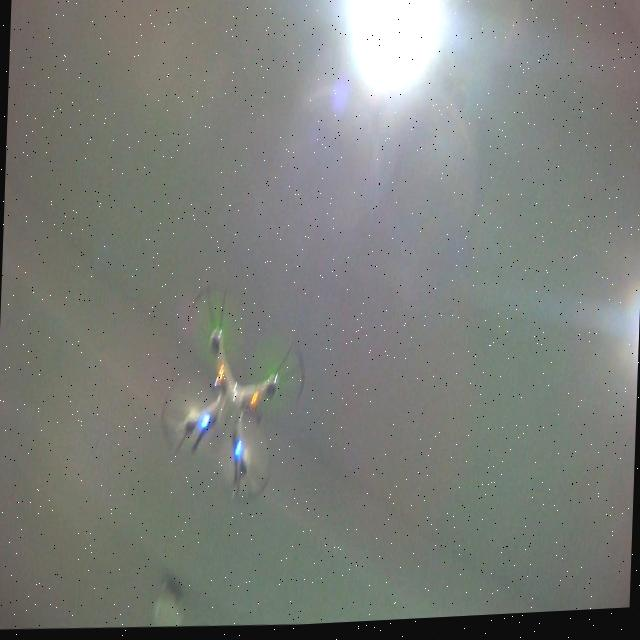drone: (156, 276, 310, 517)
